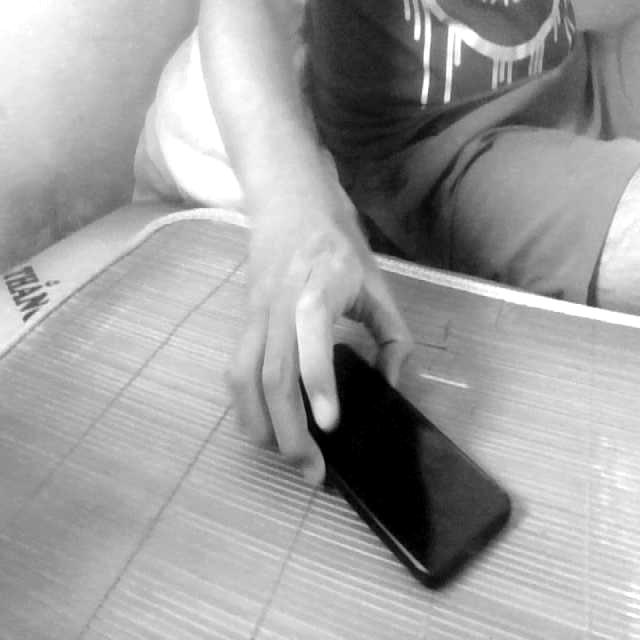phone: (258, 317, 531, 591)
